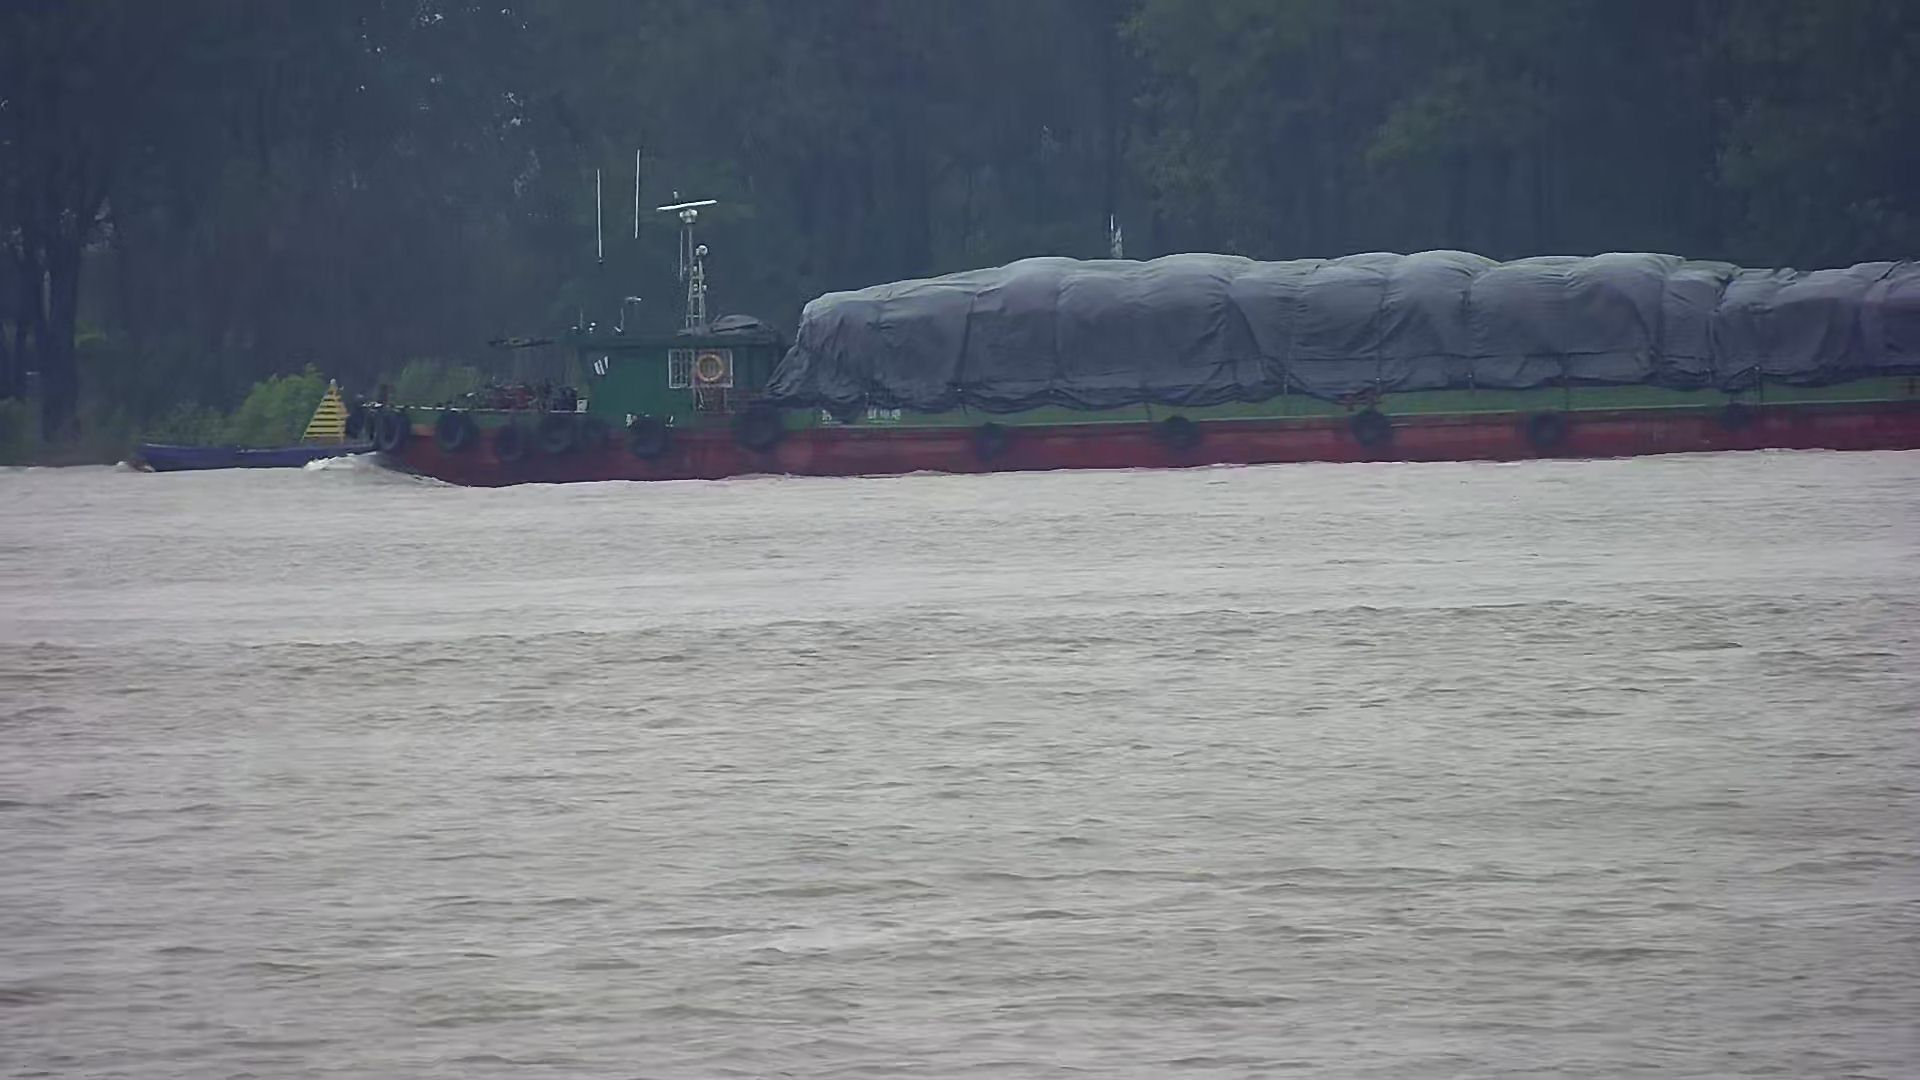boat: (141, 377, 351, 469)
ship: (345, 196, 1920, 491)
